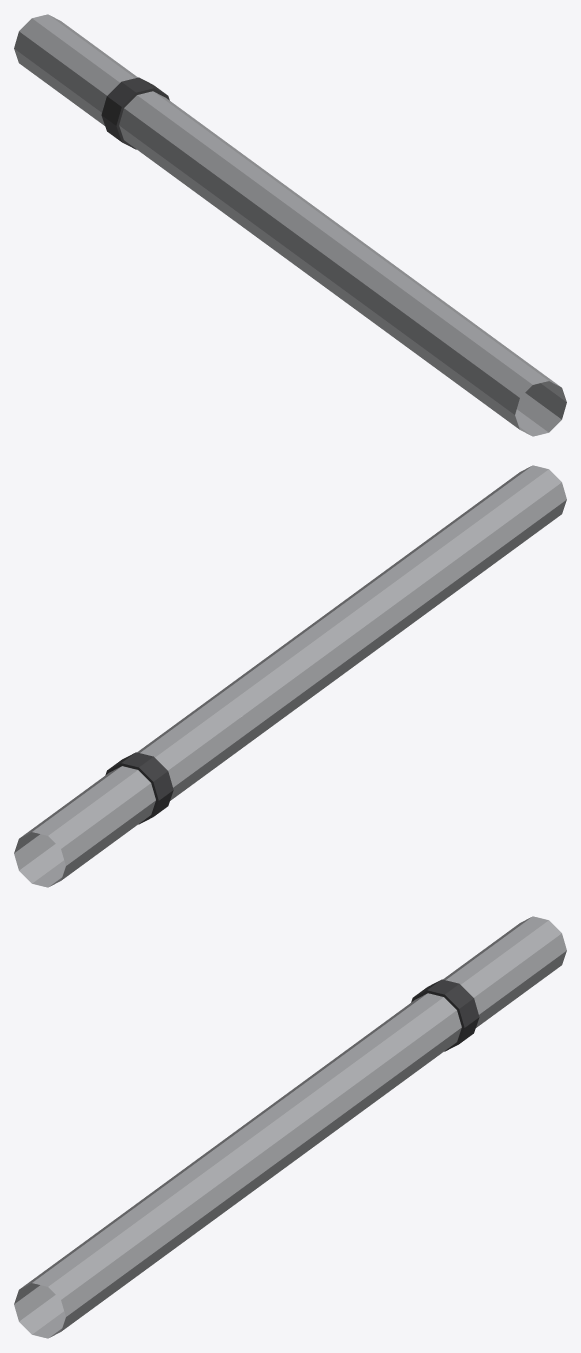
The model's file is SmallPipe01T2.fbx.
3 views of the same model, one above another, from view 1: azimuth 30°, elevation 25°; view 2: azimuth 150°, elevation 25°; view 3: azimuth 330°, elevation 25° (orthographic).
Parts seen in each view (by area): view 1: SmallPipe01T2; view 2: SmallPipe01T2; view 3: SmallPipe01T2.
Boxes of the visible parts, left/top/right/bottom form: SmallPipe01T2: left=14, top=14, right=566, bottom=436; SmallPipe01T2: left=14, top=465, right=566, bottom=887; SmallPipe01T2: left=14, top=916, right=566, bottom=1338.
Bounding box in the file's own units: 15.68 × 14.91 × 237.
